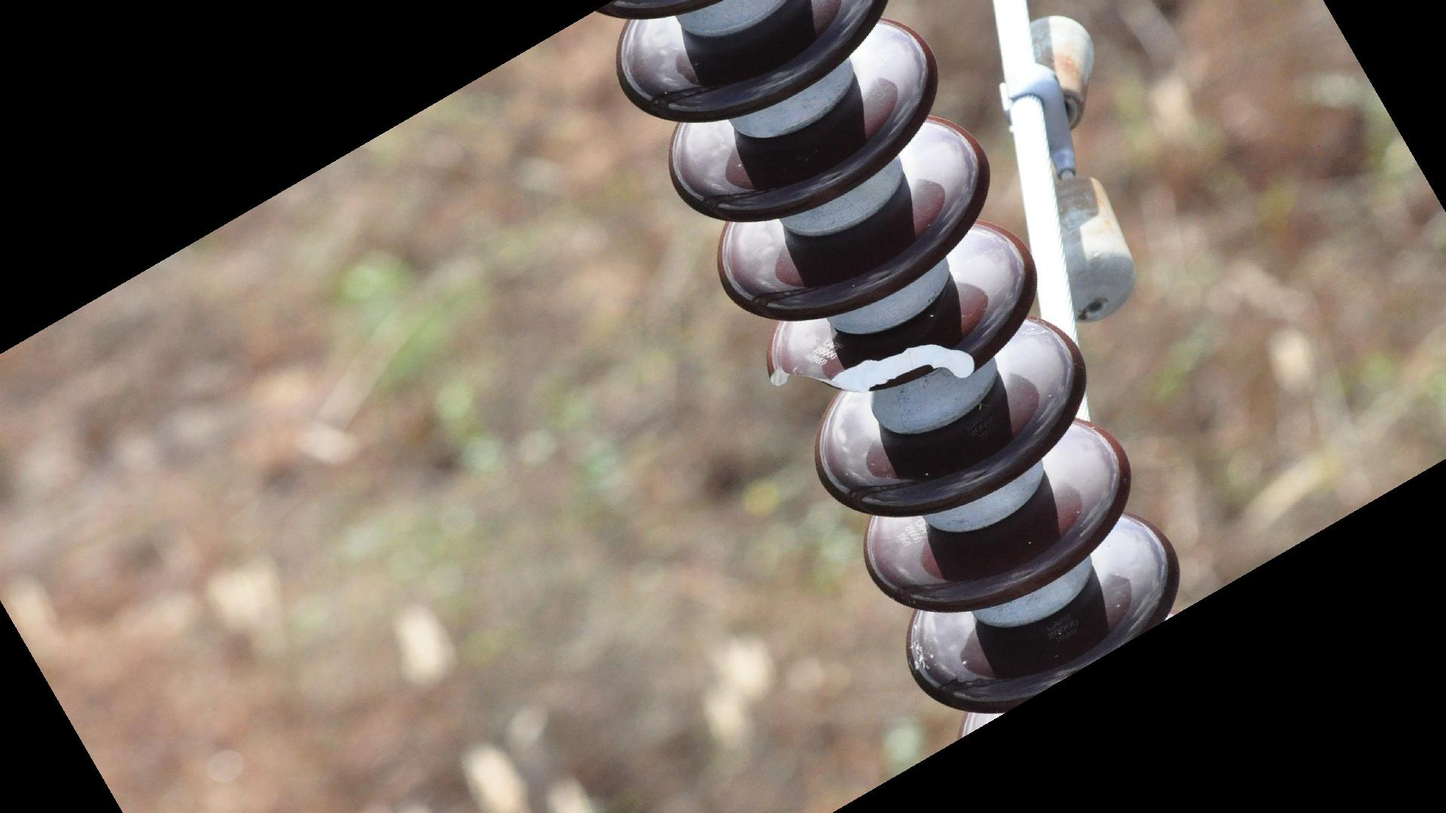insulator: (587, 1, 1189, 752)
insulator_breakage: (764, 335, 981, 395)
